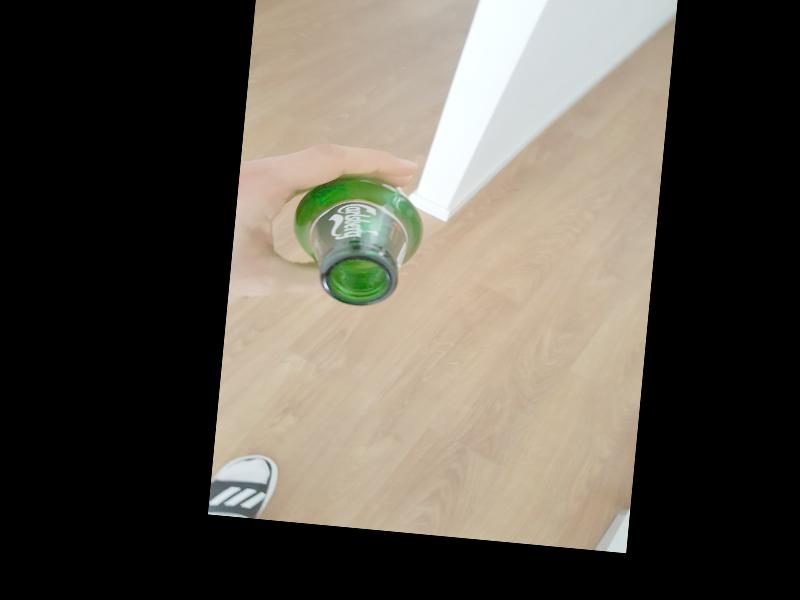Beer: (284, 170, 427, 311)
